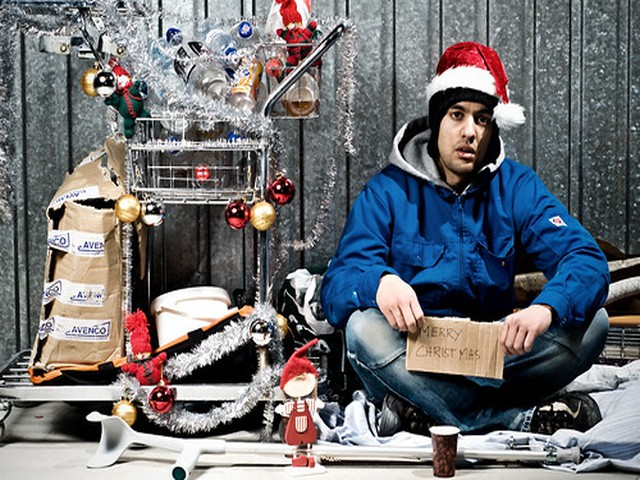Person: (323, 34, 614, 423)
